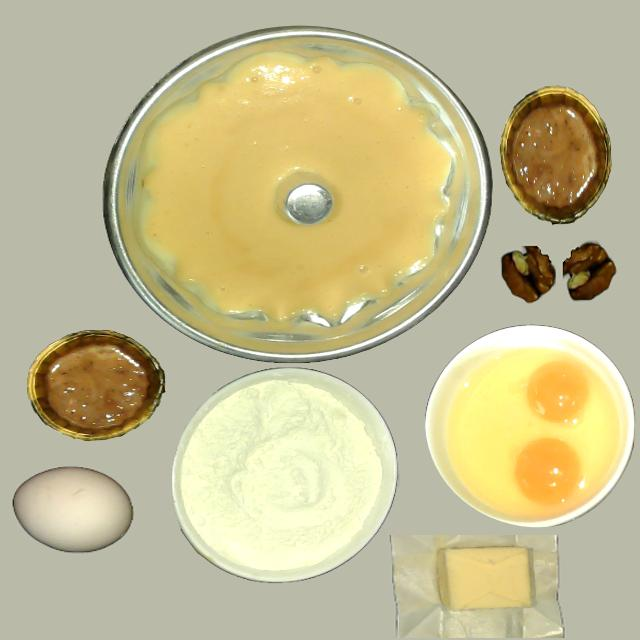Egg: (514, 438, 580, 504), (527, 362, 589, 423)
Flour: (171, 367, 391, 582)
